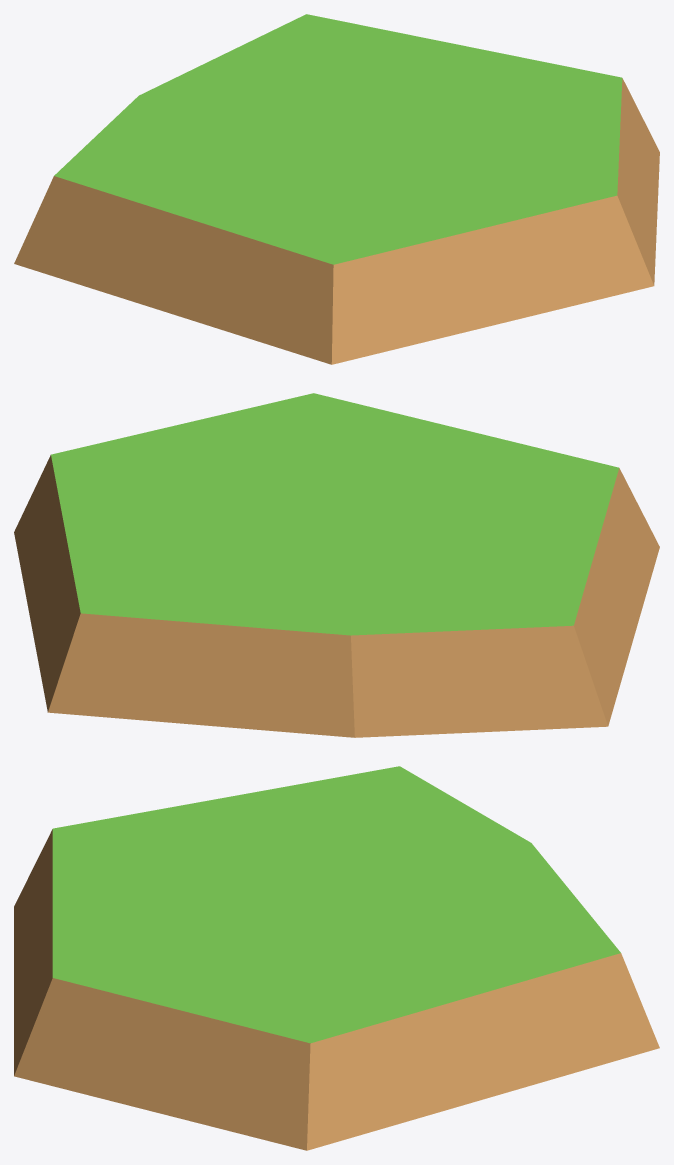
The model's file is rock-flat.glb.
3 renders of one model, top to bottom at view 1: azimuth 30°, elevation 25°; view 2: azimuth 150°, elevation 25°; view 3: azimuth 270°, elevation 25°, orthographic. The views are drawn at different scales.
Parts seen in each view (by area): view 1: rock_smallFlatA; view 2: rock_smallFlatA; view 3: rock_smallFlatA.
Part boxes in pixels (x1,y1,x2,y2): rock_smallFlatA: (14,14,659,364); rock_smallFlatA: (14,393,659,737); rock_smallFlatA: (14,766,659,1150).
Size of the model in its own units: 1.98 by 0.2598 by 1.72.
